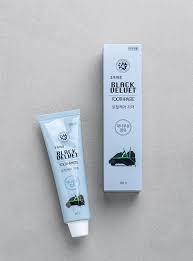toothpaste: (29, 109, 103, 242)
